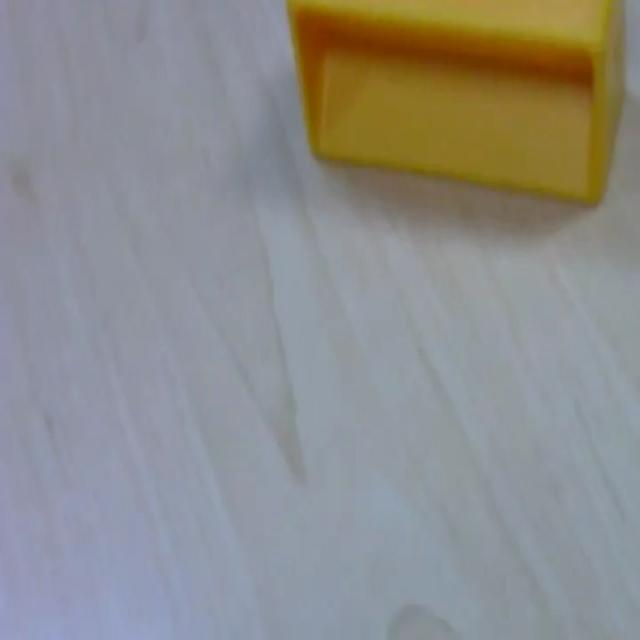yellow_block: (285, 0, 626, 207)
